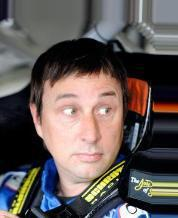face: (56, 94, 115, 162)
